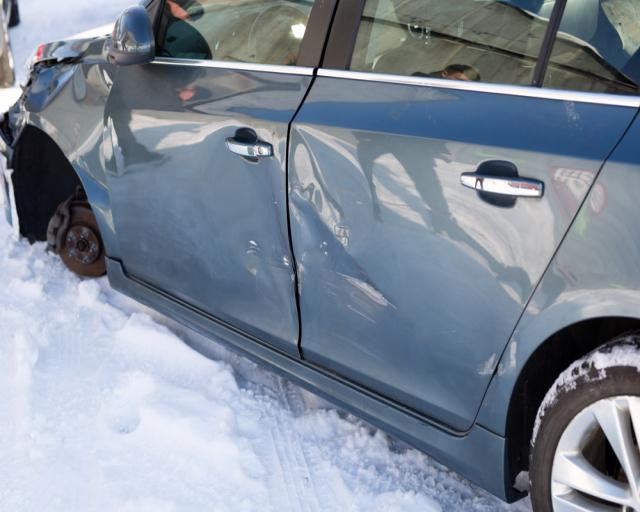dent: (281, 168, 395, 316), (205, 136, 296, 304)
